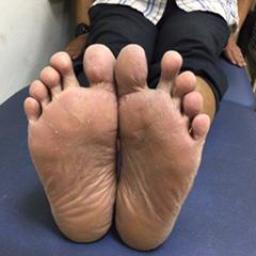Plantar View -Both Feet-: (16, 35, 214, 250)
